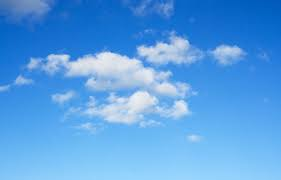sky: (1, 2, 281, 177)
